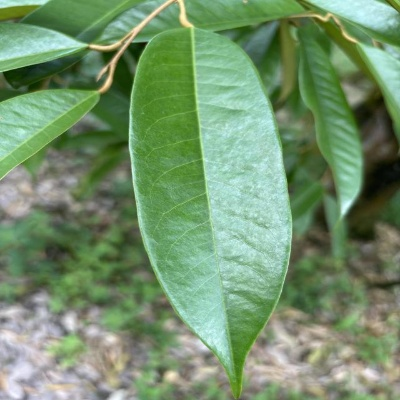Leaf_Healthy: (126, 26, 295, 400)
